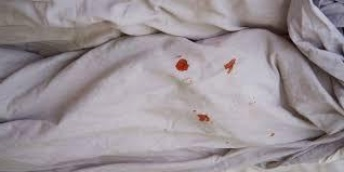blood: (175, 58, 189, 72), (224, 59, 237, 72), (199, 114, 209, 121)
